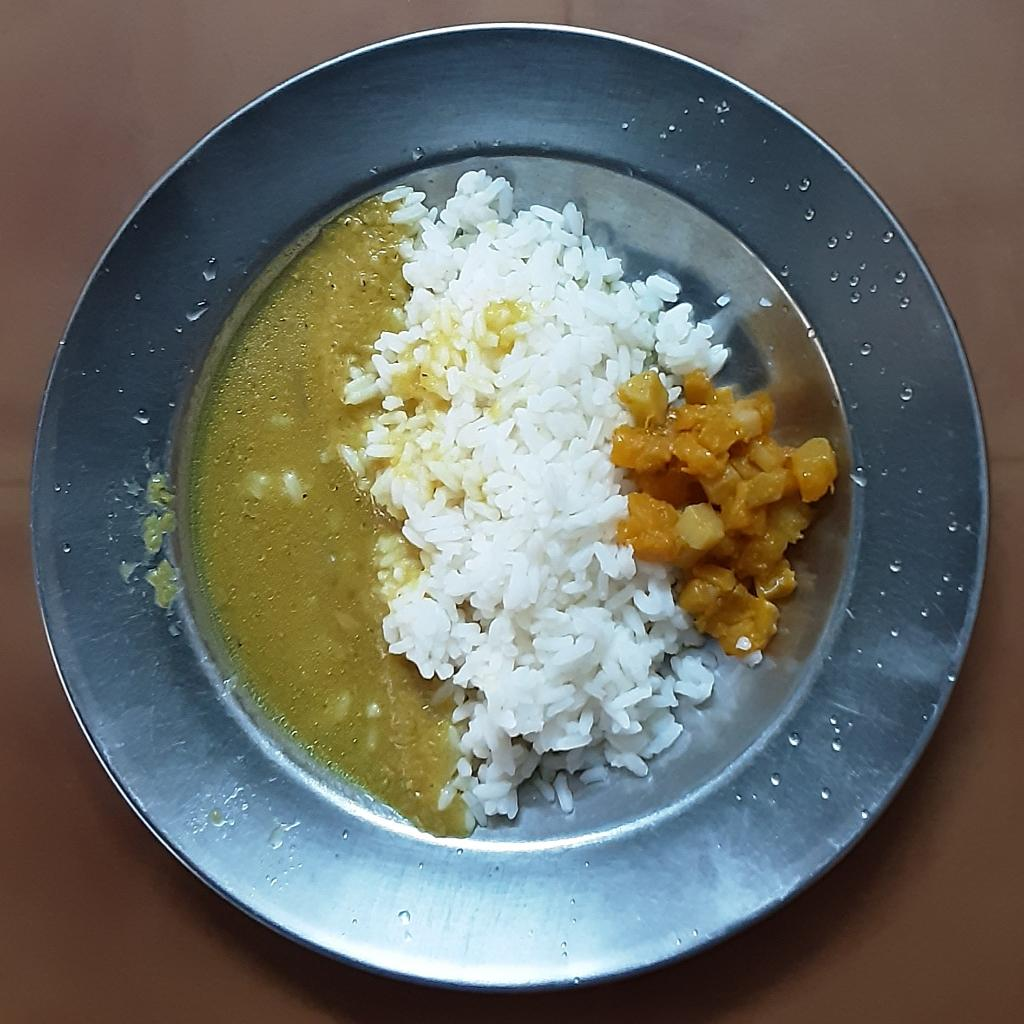daal: (184, 192, 466, 843)
kumra-vaji: (614, 373, 846, 661)
rice: (340, 169, 730, 823)
